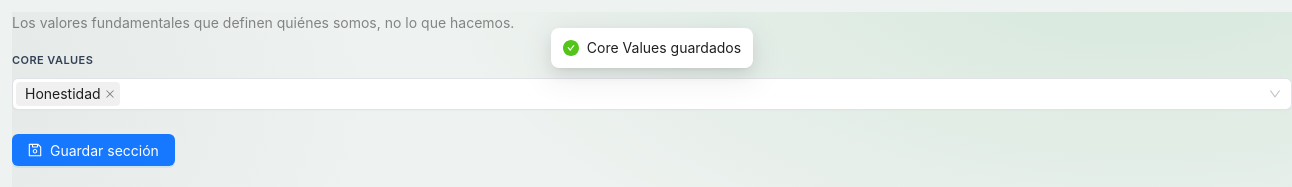
it: CoreValuesForm › shows an error message when saving fails
The width and height of the screenshot is (1292, 187).
Click the button "Guardar sección" at point(93, 150), box x1=12 y1=134 x2=175 y2=166
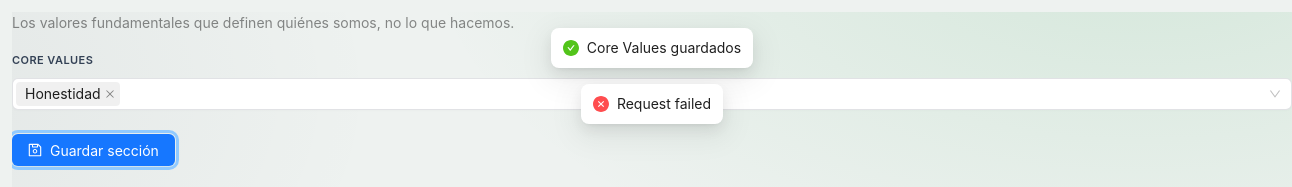
Result: the text "Request failed" is shown at x1=617 y1=93 x2=711 y2=115
